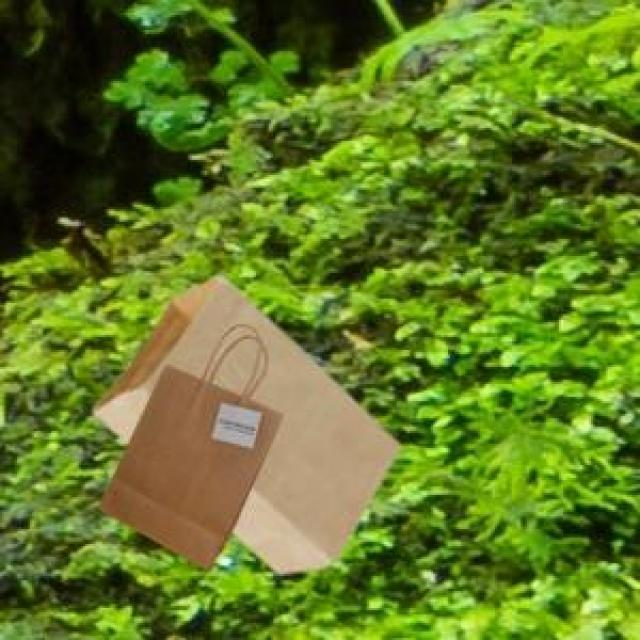paper: (90, 271, 395, 570), (96, 363, 277, 565)
